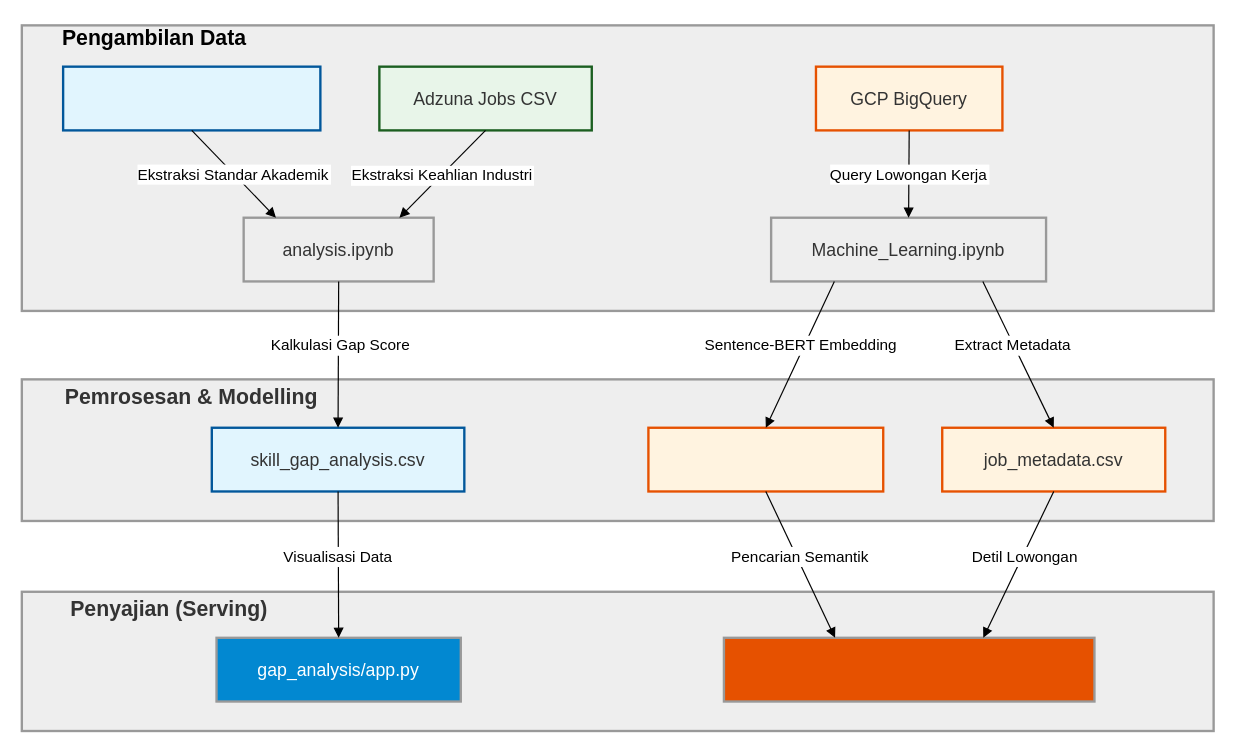
Some shapes in this 1234 by 752 pixel diagram are drawn without their labels. The shapes that lost their labels are listed below. From the top down, each one's centre as x and y in pixels, then its label:
At point (191, 98): "Database O*NET Excel".
At point (765, 459): "faiss_job_index.bin".
At point (908, 669): "cv_recommender/streamlit_app.py".
